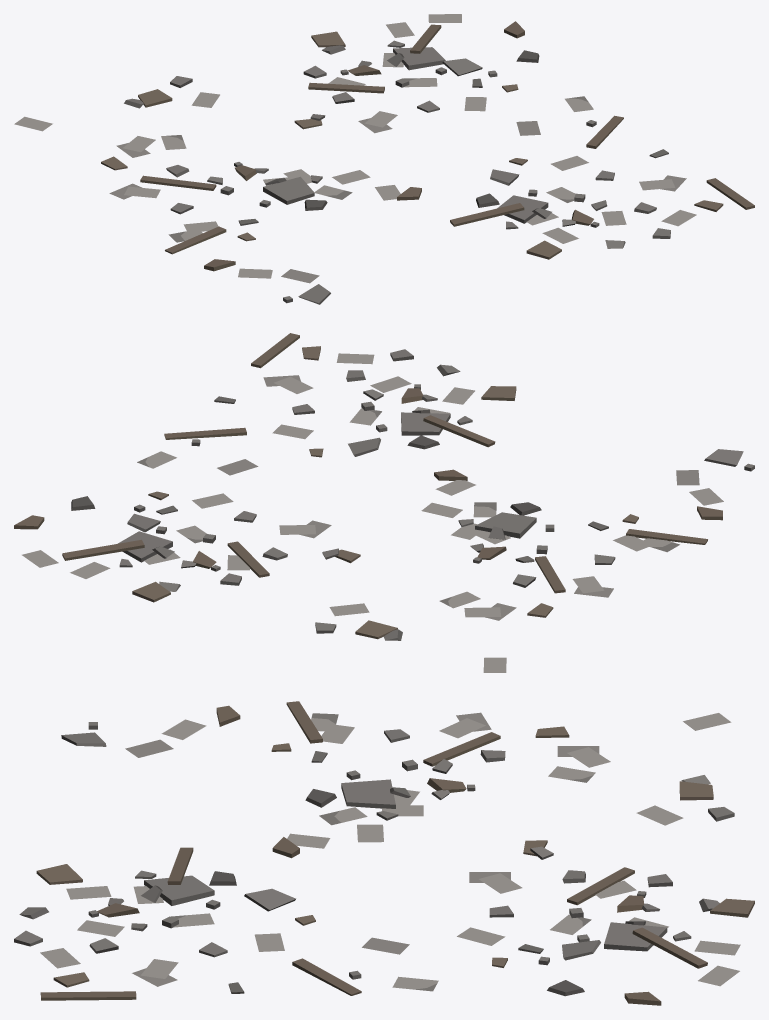
Rendered from AI_Env_GroundDirt_03.fbx.
3 views of the same model, one above another, from view 1: azimuth 30°, elevation 25°; view 2: azimuth 150°, elevation 25°; view 3: azimuth 270°, elevation 25° (orthographic). The views are drawn at different scales.
Visible parts, largest first — view 1: AI_Env_GroundDirt_03; view 2: AI_Env_GroundDirt_03; view 3: AI_Env_GroundDirt_03.
Boxes of the visible parts, left/top/right/bottom form: AI_Env_GroundDirt_03: left=14, top=14, right=754, bottom=304; AI_Env_GroundDirt_03: left=14, top=333, right=754, bottom=672; AI_Env_GroundDirt_03: left=14, top=701, right=754, bottom=1005.
Size of the model in its own units: 9.34 by 0.1494 by 9.65.
